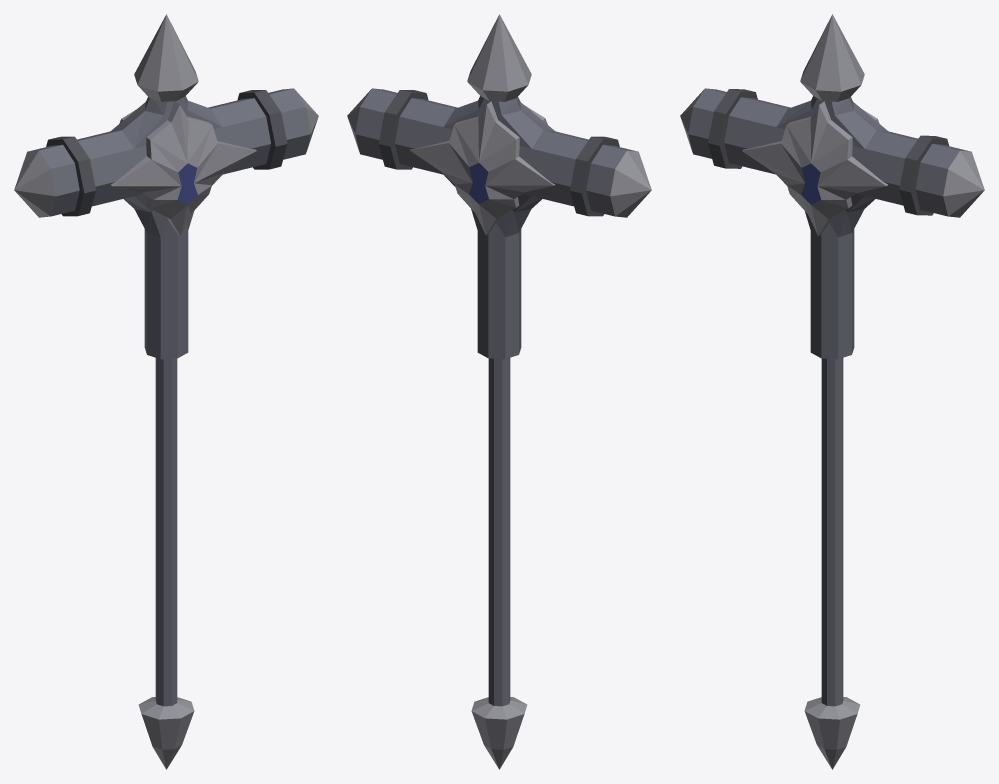
File: _hammer_11.fbx
The picture shows the model from 3 angles, left to right: view 1: azimuth 30°, elevation 25°; view 2: azimuth 150°, elevation 25°; view 3: azimuth 330°, elevation 25°; orthographic projection.
Visible parts, largest first — view 1: hammer_11; view 2: hammer_11; view 3: hammer_11.
Boxes of the visible parts, box(x1,y1,x2,y2) form: hammer_11: box(14, 14, 318, 769); hammer_11: box(347, 14, 651, 769); hammer_11: box(680, 14, 984, 769).
Bounding box in the file's own units: 36.54 × 86.6 × 8.83.
